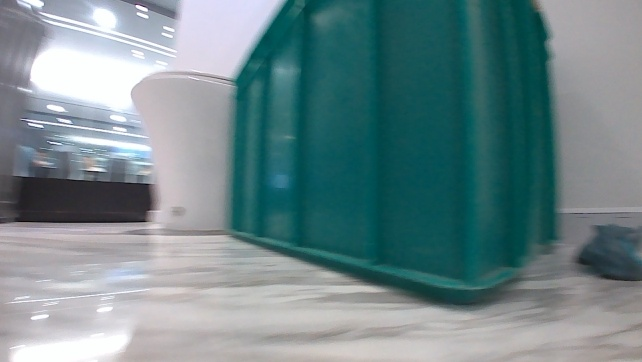toilet: (130, 67, 235, 232)
